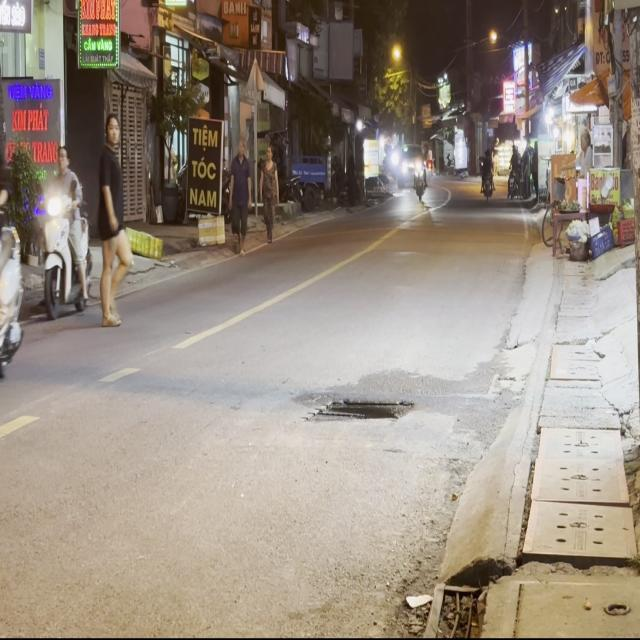licenseplate: (38, 141, 89, 325), (0, 118, 25, 393)
motorcyclist: (56, 144, 68, 171)
